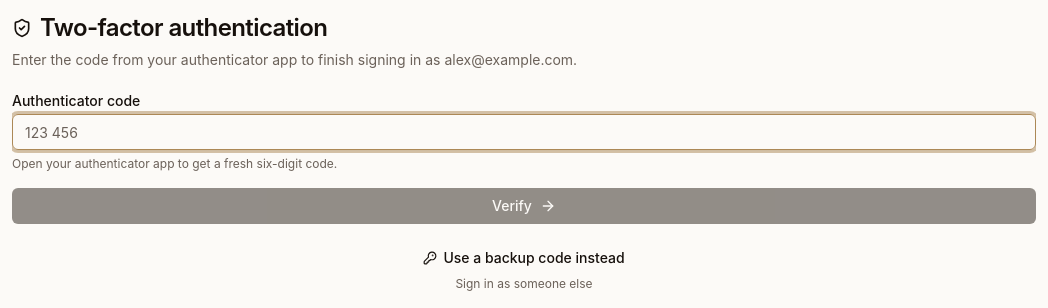
Test: <MFAChallenge /> › submit is disabled until the user types something
Expected: the button with test id "mfa-submit" is disabled, [12,188,1036,224]
In the field with test id "mfa-code-input": (524, 132) [12,114,1036,150], type "999999"
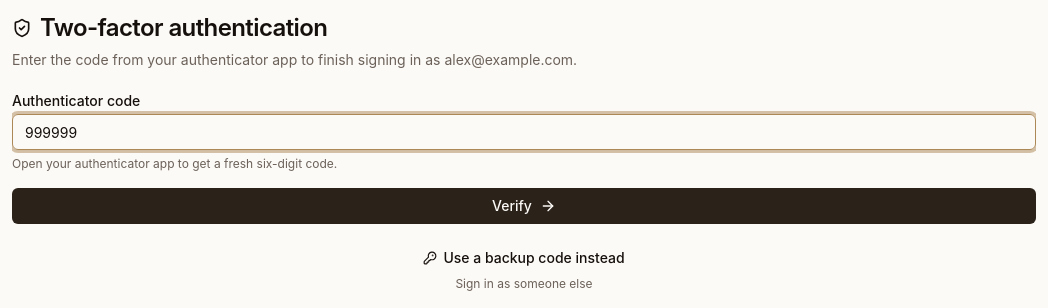
Expected: the button with test id "mfa-submit" is enabled, [12,188,1036,224]
